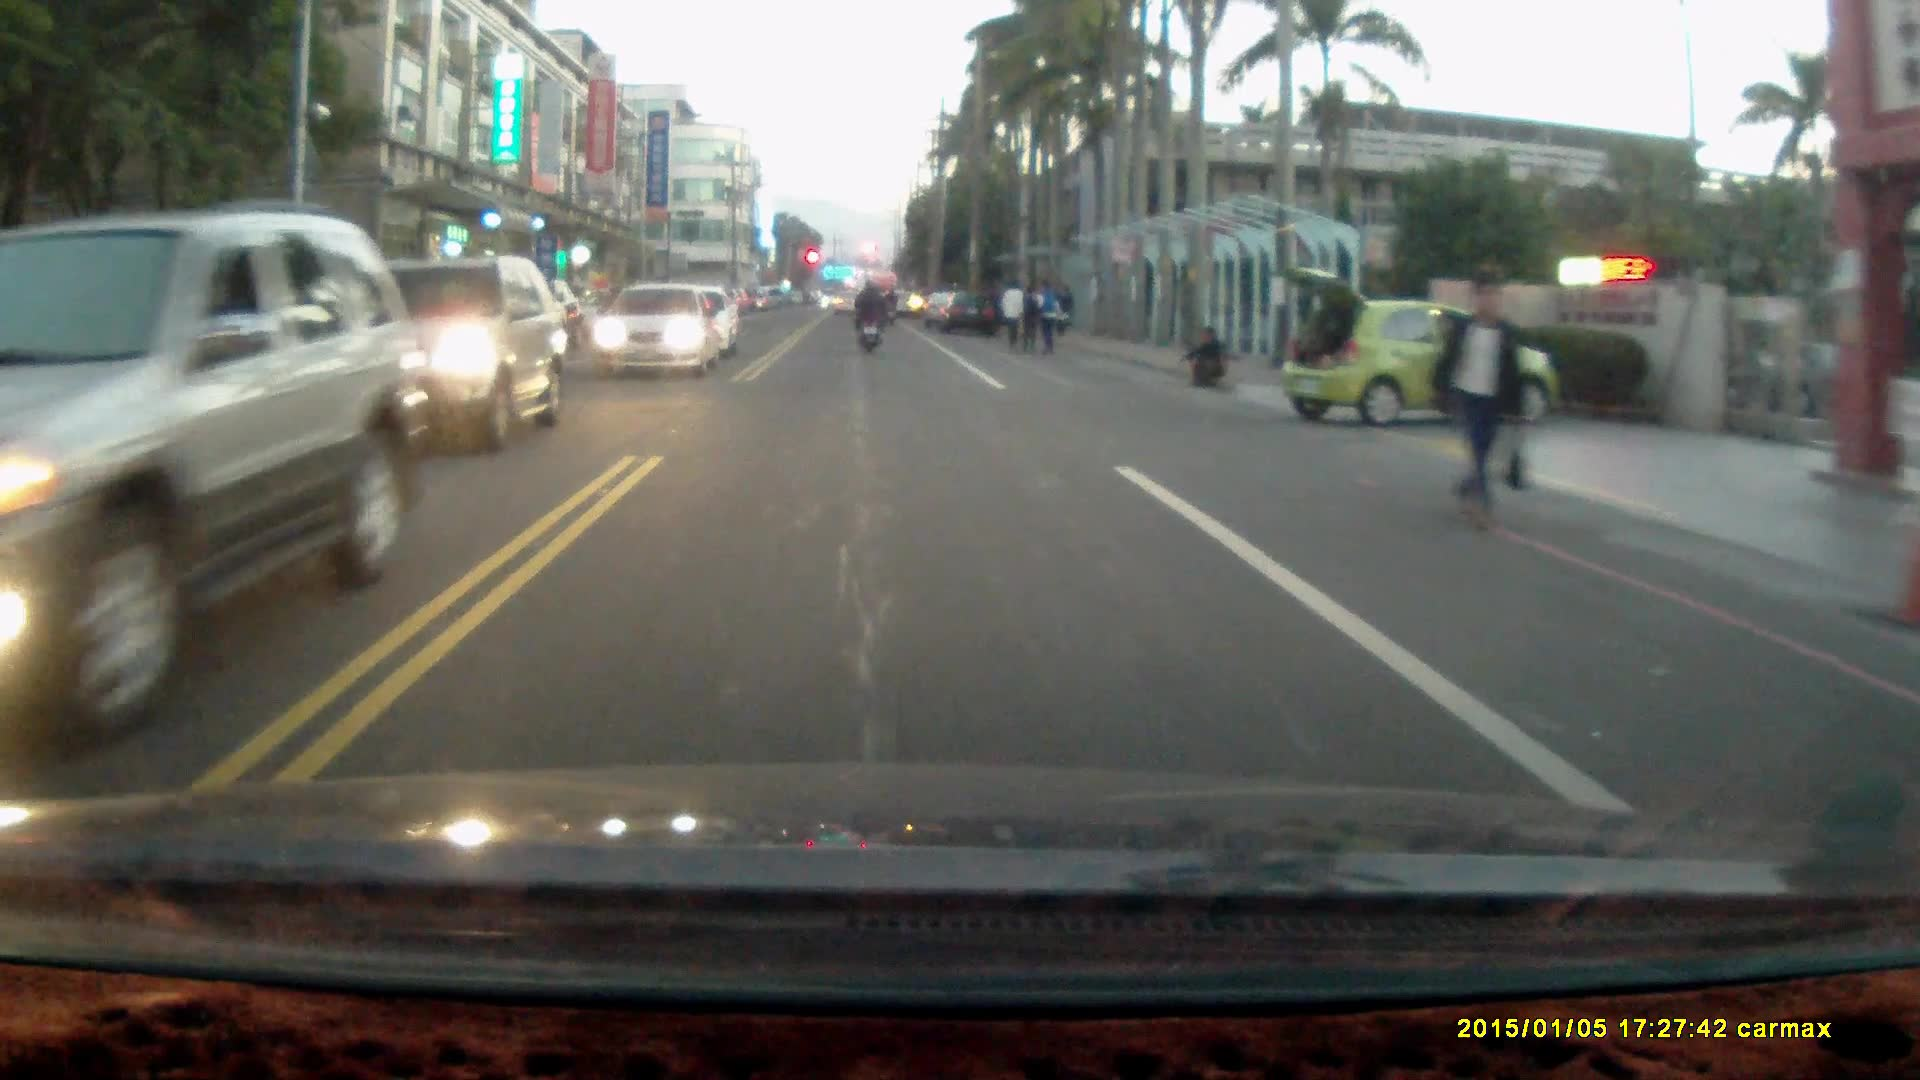pedestrian: (1425, 269, 1530, 530), (1186, 324, 1230, 390), (1032, 277, 1064, 353), (1001, 279, 1026, 357), (1018, 284, 1043, 355)
rider: (850, 277, 886, 352)
vehicle: (1, 208, 427, 778), (302, 255, 569, 458), (1279, 264, 1539, 427), (592, 282, 718, 378), (940, 284, 1000, 335)
